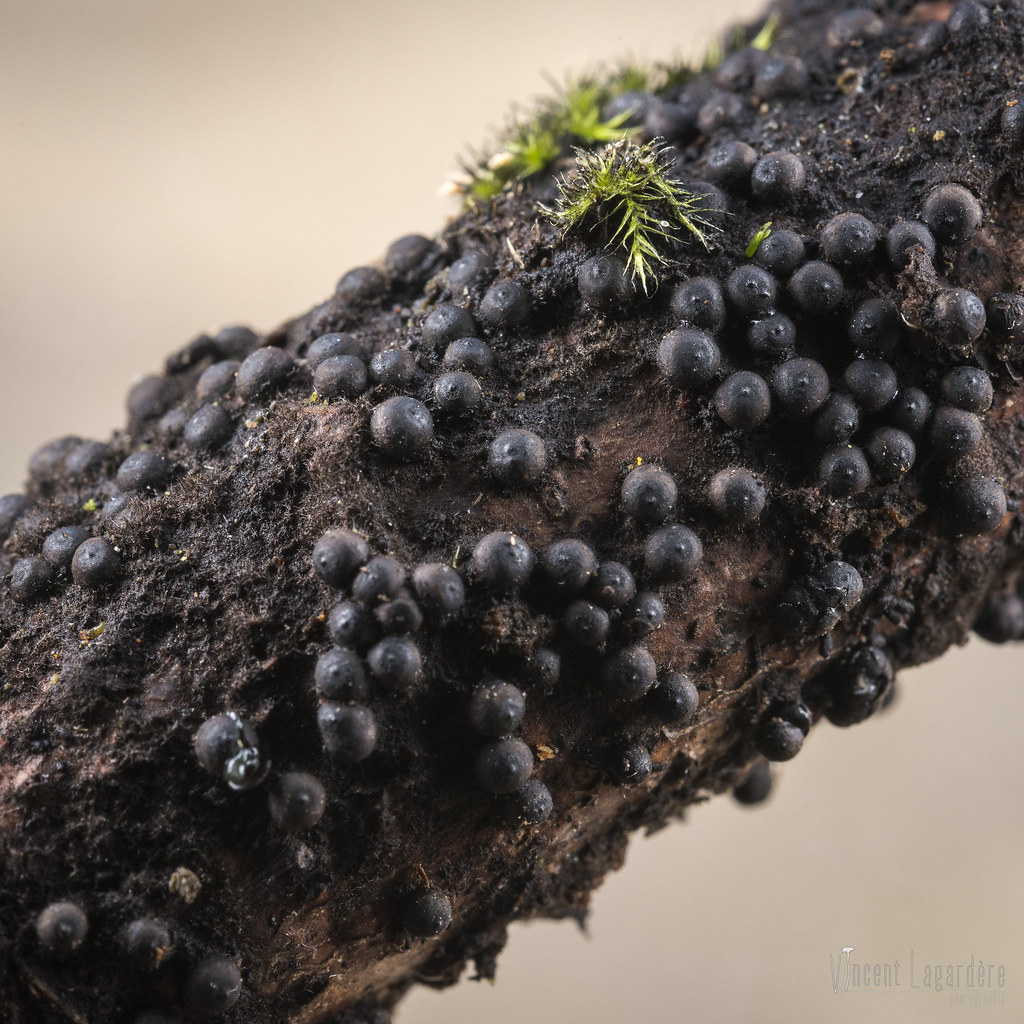pudricion radicular: (106, 131, 952, 845)
